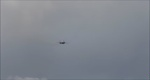maybay_muctieu: (58, 40, 68, 46)
